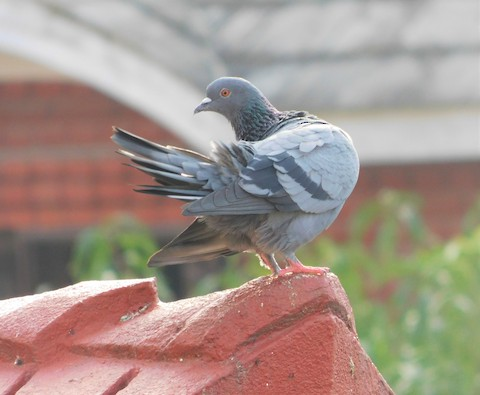pigeon: (108, 75, 366, 286)
